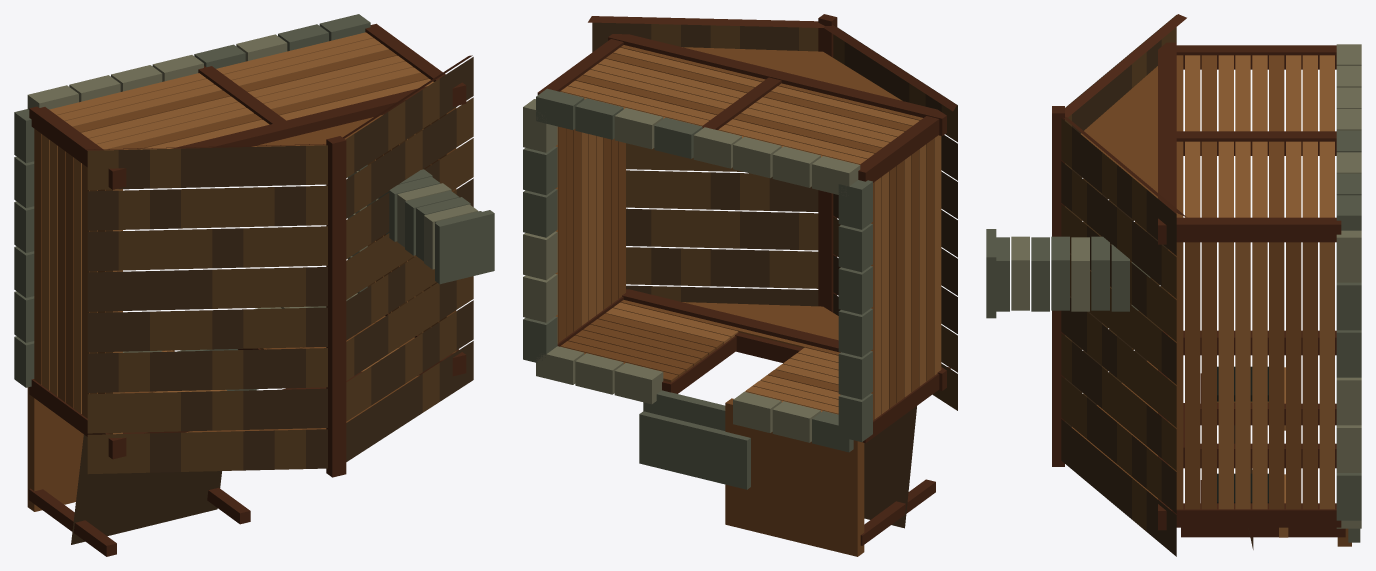
File: SM_RuralCottage_A.obj
3 views of the same model, side by side, from view 1: azimuth 30°, elevation 25°; view 2: azimuth 150°, elevation 25°; view 3: azimuth 270°, elevation 25° (orthographic). The views are drawn at different scales.
Visible parts, largest first — view 1: SM_RuralCottage_A; view 2: SM_RuralCottage_A; view 3: SM_RuralCottage_A.
Boxes of the visible parts, x1,y1,x2,y2 form: SM_RuralCottage_A: (14, 14, 494, 556); SM_RuralCottage_A: (523, 14, 957, 556); SM_RuralCottage_A: (986, 14, 1361, 556).
Size of the model in its own units: 660 by 702 by 524.
